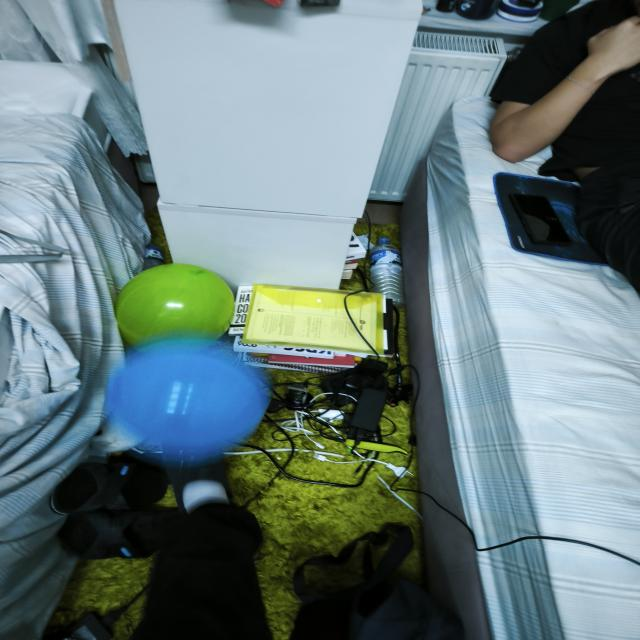balloon: (107, 339, 266, 463), (115, 264, 234, 345)
